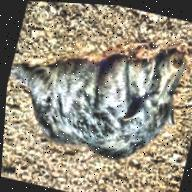boar: (1, 18, 192, 187)
